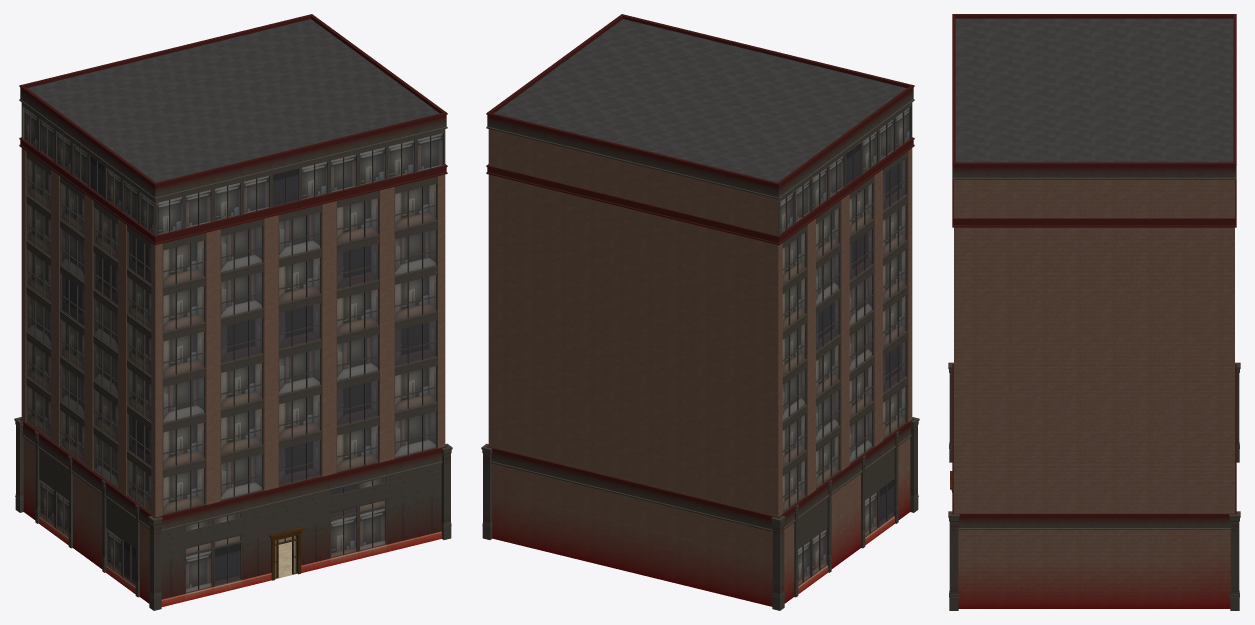
The model's file is Building_Large_2.glb.
The picture shows the model from 3 angles, left to right: view 1: azimuth 30°, elevation 25°; view 2: azimuth 150°, elevation 25°; view 3: azimuth 270°, elevation 25°; orthographic projection. The views are drawn at different scales.
Visible parts, largest first — view 1: Building_Large_2; view 2: Building_Large_2; view 3: Building_Large_2.
Boxes of the visible parts, x1,y1,x2,y2 form: Building_Large_2: [14, 14, 452, 610]; Building_Large_2: [481, 14, 919, 610]; Building_Large_2: [948, 14, 1240, 610].
Bounding box in the file's own units: 20.64 × 28 × 16.64.
Materials: 9 (8 with a texture image).
